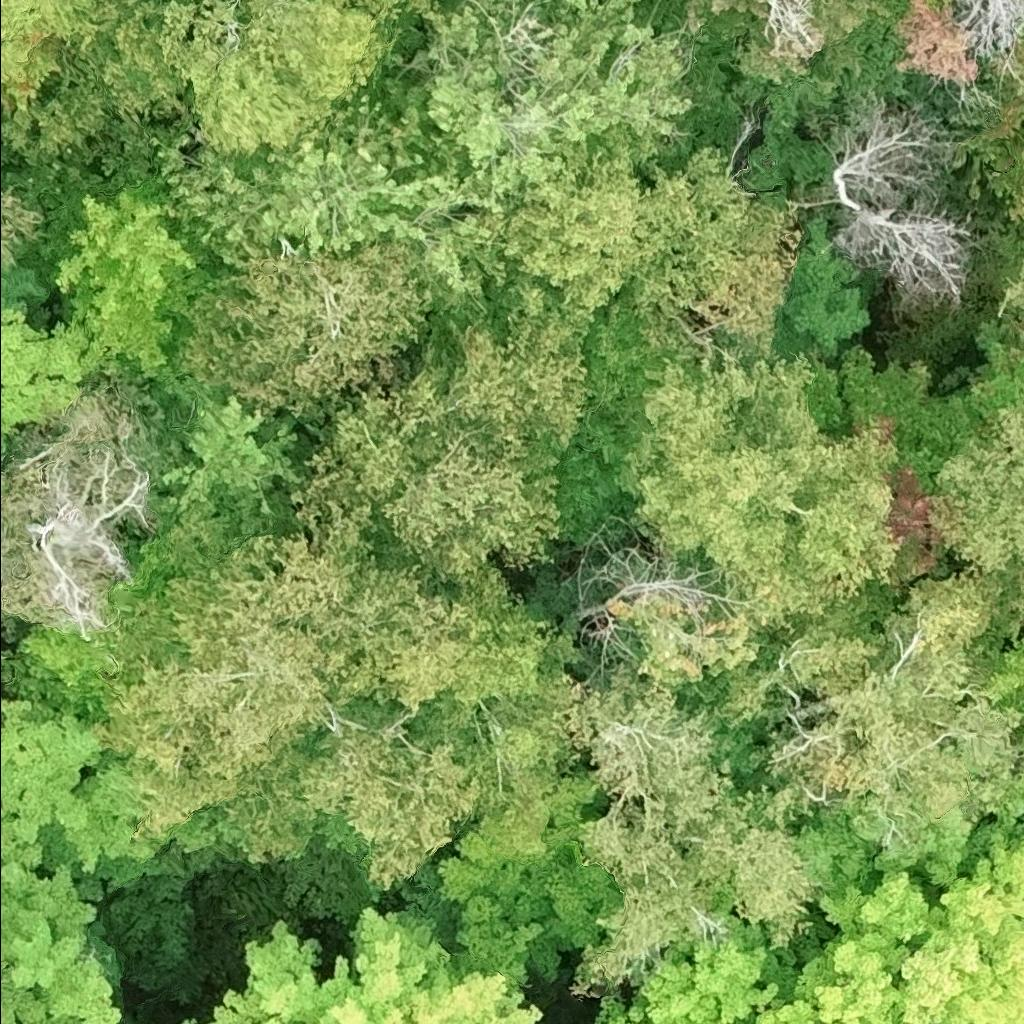crown: (82, 442, 594, 895), (145, 64, 521, 317), (695, 560, 1023, 846), (565, 661, 820, 1002), (314, 305, 593, 590), (611, 344, 906, 604), (490, 143, 805, 360), (383, 0, 698, 211), (752, 807, 1023, 1023), (381, 778, 616, 985), (185, 244, 435, 420), (204, 901, 545, 1023), (163, 0, 402, 159), (0, 696, 191, 893), (32, 177, 218, 379), (831, 97, 974, 311), (927, 391, 1023, 644), (590, 915, 797, 1023), (681, 0, 906, 98), (0, 859, 124, 1023), (0, 264, 89, 468), (81, 0, 188, 124), (0, 0, 117, 112), (0, 57, 114, 166), (995, 143, 1023, 333), (981, 720, 1023, 830), (978, 634, 1023, 709), (355, 0, 442, 17), (173, 1011, 196, 1023), (524, 0, 546, 9), (0, 1022, 13, 1023), (148, 1021, 154, 1023)
